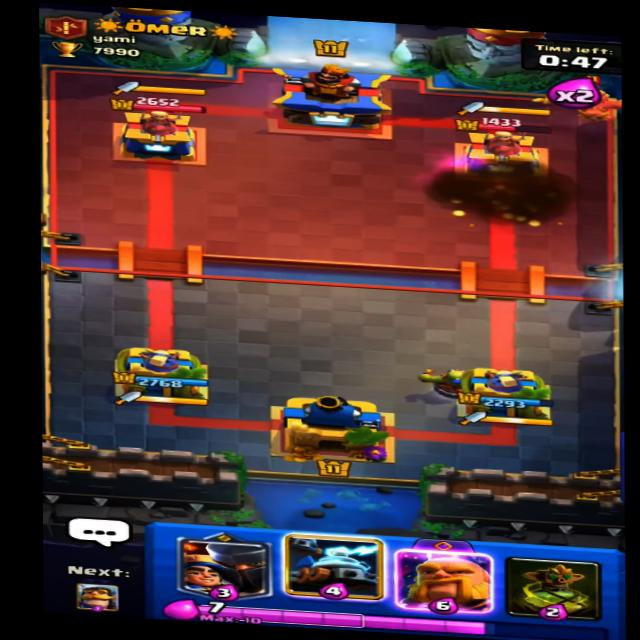phoenix: (541, 73, 623, 131)
